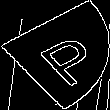P_NW: (14, 24, 96, 86)
